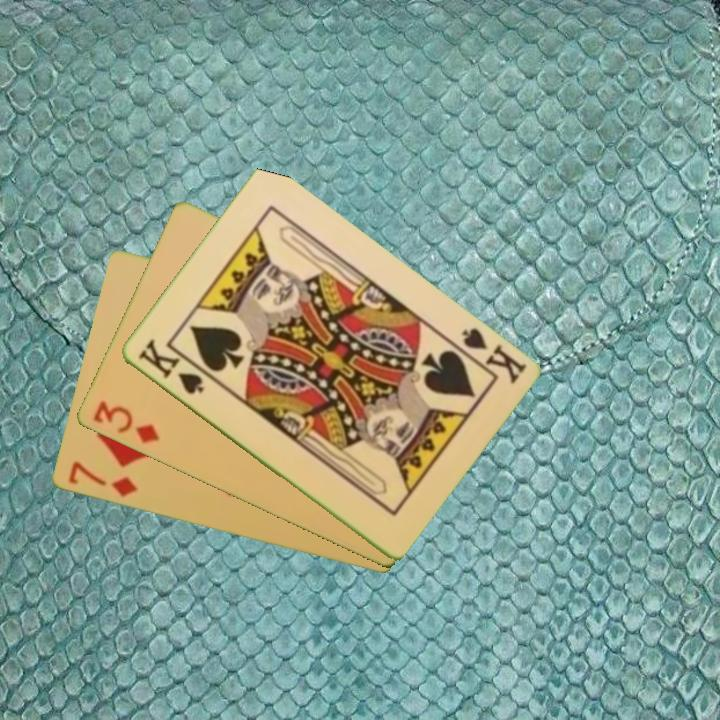3d: (89, 397, 162, 447)
7d: (64, 458, 140, 501)
Ks: (447, 324, 529, 387), (133, 335, 206, 398)
